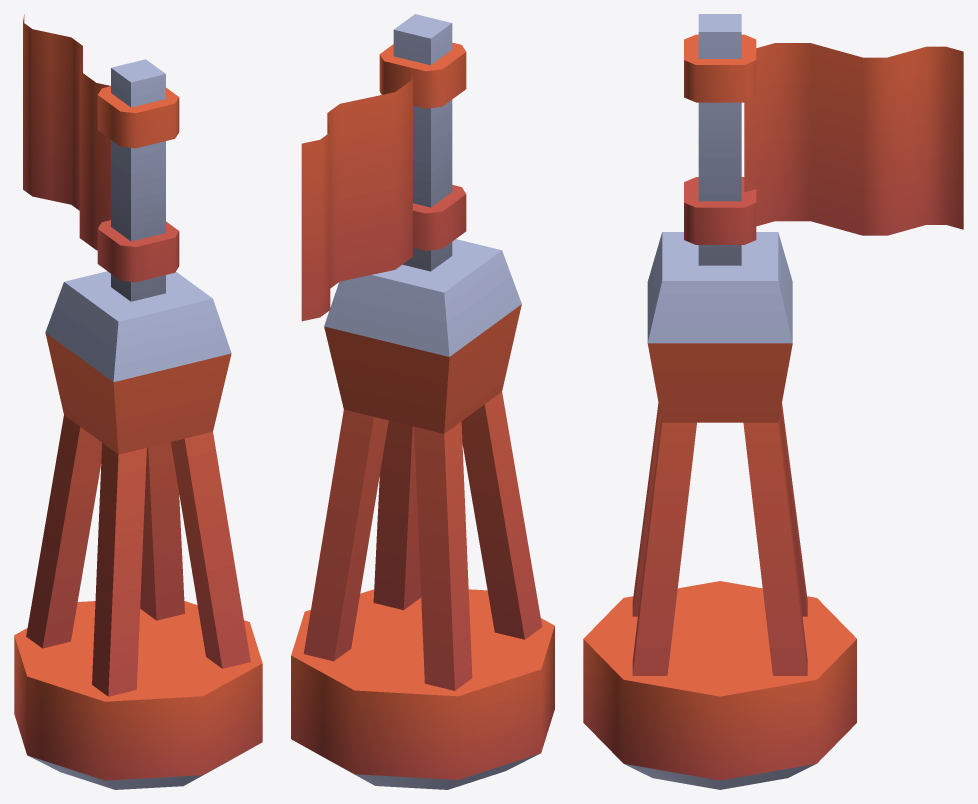
The model's file is prop_buoy_flag.glb.
3 renders of one model, left to right at view 1: azimuth 30°, elevation 25°; view 2: azimuth 150°, elevation 25°; view 3: azimuth 270°, elevation 25°, orthographic. The views are drawn at different scales.
Parts seen in each view (by area): view 1: buoy-flag; view 2: buoy-flag; view 3: buoy-flag.
Part boxes in pixels (x1,y1,x2,y2): buoy-flag: (14, 14, 262, 789); buoy-flag: (291, 14, 554, 789); buoy-flag: (583, 14, 963, 789).
Size of the model in its own units: 0.9283 by 2.72 by 1.29.
1 material, 1 textured.
